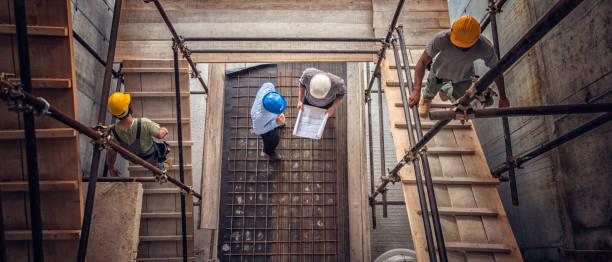capacete: (448, 14, 482, 48), (104, 90, 133, 116), (264, 89, 290, 115), (309, 72, 335, 97)
pessoa: (410, 17, 522, 119), (101, 90, 177, 183), (248, 80, 287, 163), (300, 68, 350, 131)
